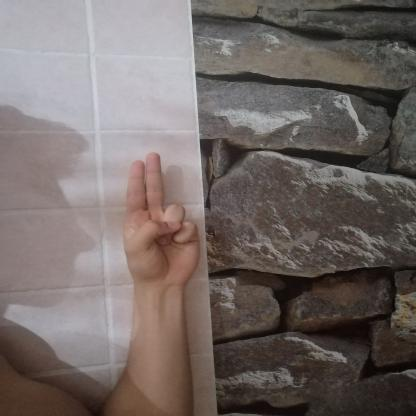TA: (108, 144, 221, 298)
